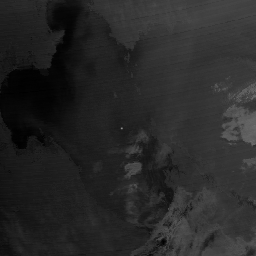Target: (119, 125, 124, 131)
